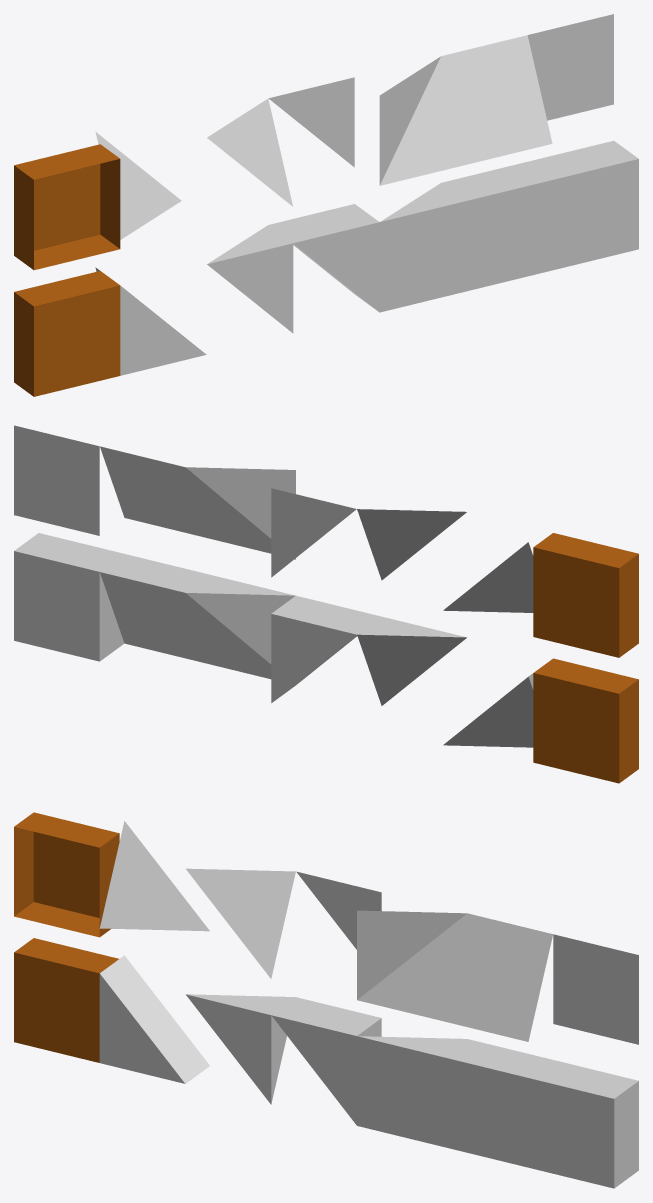
The model's file is base_terrain.fbx.
3 renders of one model, top to bottom at view 1: azimuth 30°, elevation 25°; view 2: azimuth 150°, elevation 25°; view 3: azimuth 330°, elevation 25°, orthographic.
Visible parts, largest first — view 1: Lava, Lava-R, Slope-R, Block, Slope, Slope-Corner, Slope-Corner-R, Block-R, Angle, Angle-Slope-Up, Slope-Angle-Down, Angle-R (+2 smaller); view 2: Lava, Lava-R, Block, Slope, Block-R, Slope-Corner, Slope-Corner-R, Angle, Slope-R, Angle-Slope-Up, Angle-Slope-R, Angle-R (+2 smaller); view 3: Block, Lava-R, Slope, Slope-Corner-R, Slope-R, Lava, Slope-Corner, Slope-Angle-Down, Block-R, Angle, Angle-Slope-R, Slope-Angle-Down-R (+2 smaller).
Part boxes in pixels (<box>): Lava: <box>14,271,120,396</box>; Lava-R: <box>14,144,120,270</box>; Slope-R: <box>441,35,552,164</box>; Block: <box>528,140,638,270</box>; Slope: <box>441,162,552,291</box>; Slope-Corner: <box>379,183,465,312</box>; Slope-Corner-R: <box>379,56,465,185</box>; Block-R: <box>527,14,613,120</box>; Angle: <box>269,204,379,312</box>; Angle-Slope-Up: <box>207,225,293,333</box>; Slope-Angle-Down: <box>95,267,206,375</box>; Angle-R: <box>268,77,354,167</box>; Lava: <box>533,658,638,783</box>; Lava-R: <box>533,533,638,657</box>; Block: <box>14,533,124,661</box>; Slope: <box>100,554,209,664</box>; Block-R: <box>14,425,99,535</box>; Slope-Corner: <box>185,574,295,679</box>; Slope-Corner-R: <box>185,467,295,559</box>; Angle: <box>271,595,381,702</box>; Slope-R: <box>100,446,209,538</box>; Angle-Slope-Up: <box>357,616,466,705</box>; Angle-Slope-R: <box>357,509,466,580</box>; Angle-R: <box>271,488,356,577</box>; Block: <box>528,1060,638,1188</box>; Lava-R: <box>14,812,119,937</box>; Slope: <box>442,1039,552,1167</box>; Slope-Corner-R: <box>357,910,467,1020</box>; Slope-R: <box>443,913,552,1041</box>; Lava: <box>14,938,118,1062</box>; Slope-Corner: <box>357,1036,466,1146</box>; Slope-Angle-Down: <box>99,955,209,1083</box>; Block-R: <box>553,934,638,1044</box>; Angle: <box>271,997,381,1125</box>; Angle-Slope-R: <box>186,868,295,978</box>; Slope-Angle-Down-R: <box>99,821,209,931</box>.
Size of the model in its own units: 7000 by 2500 by 500.
